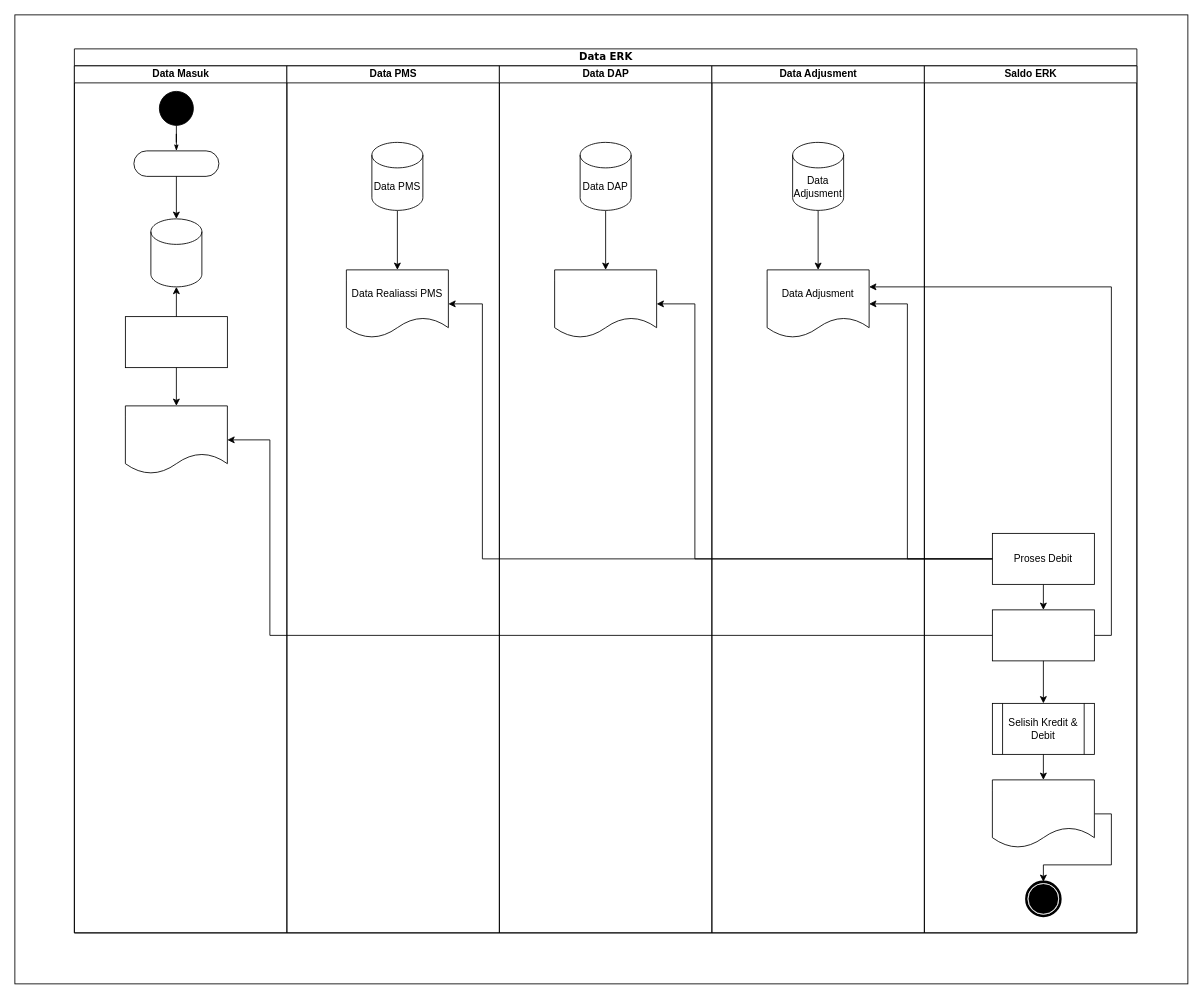
The diagram is 1203 pixels wide and 999 high, and some of its shapes have lost their labels. Each missing label, with the centre of its shape:
"Cicilan DAP" goes at point (605, 303).
"Data Claim Bulanan" goes at point (176, 439).
"Data CN" goes at point (176, 252).
"Data Saldo ERK" goes at point (1043, 813).
"Proses Data" goes at point (176, 342).
"Proses Kredit" goes at point (1043, 635).
"Start" goes at point (176, 163).
